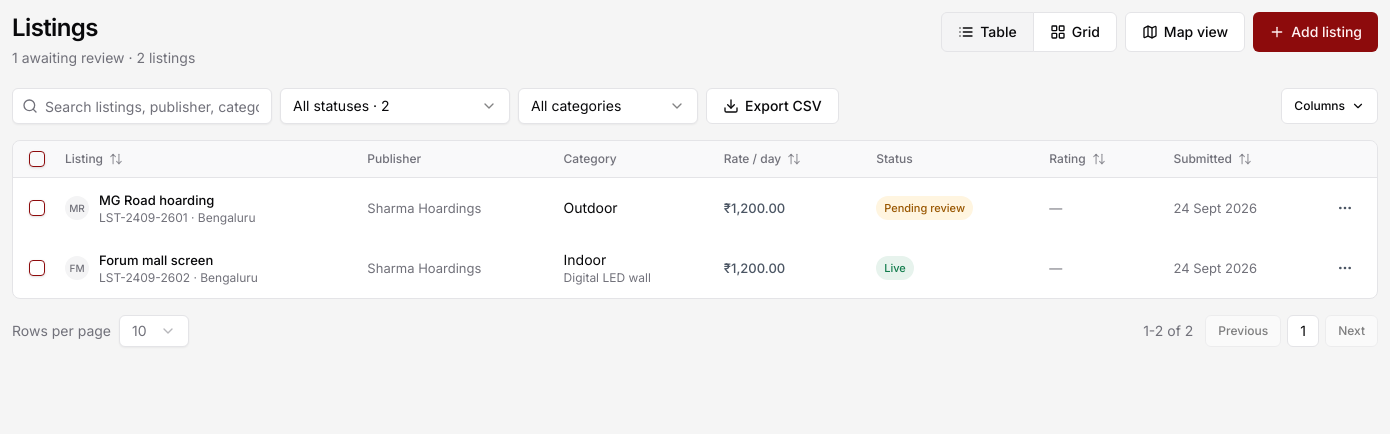
Scenario: the listings › does not offer a bulk action the viewer may not take
The width and height of the screenshot is (1390, 434).
Click the checkbox named "Select row" next to "MR" at (37, 208), box [29,200,45,216]
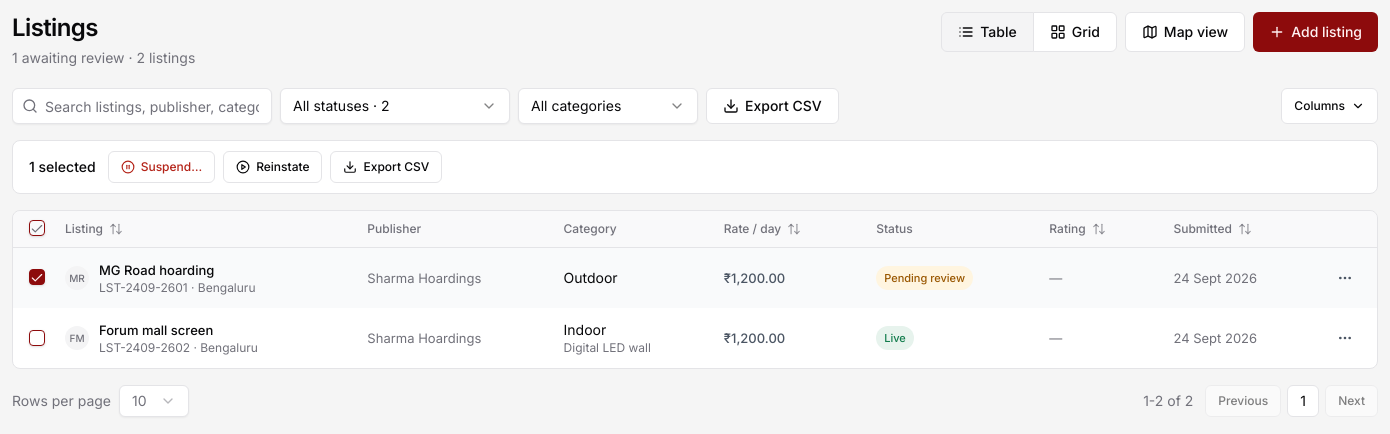
Expected: the button with test id "bulk-suspend" is shown, [108,151,215,183]
Expected: the button with test id "bulk-reinstate" is shown, [223,151,322,183]
Expected: the button with test id "bulk-export" is shown, [330,151,442,183]
